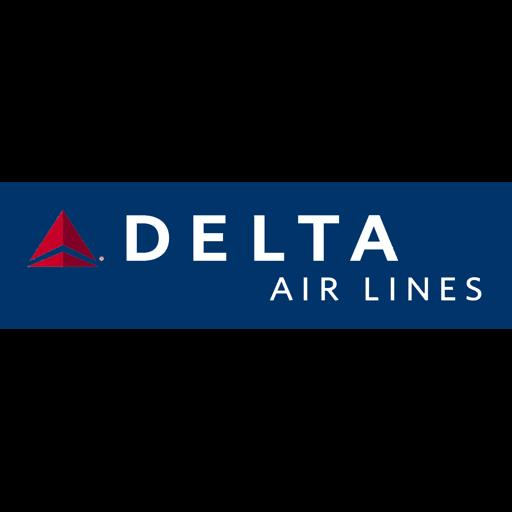Delta Air Lines: (0, 182, 512, 329)
